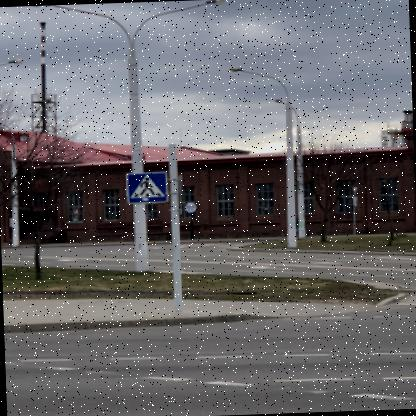crosswalk: (128, 171, 171, 202)
